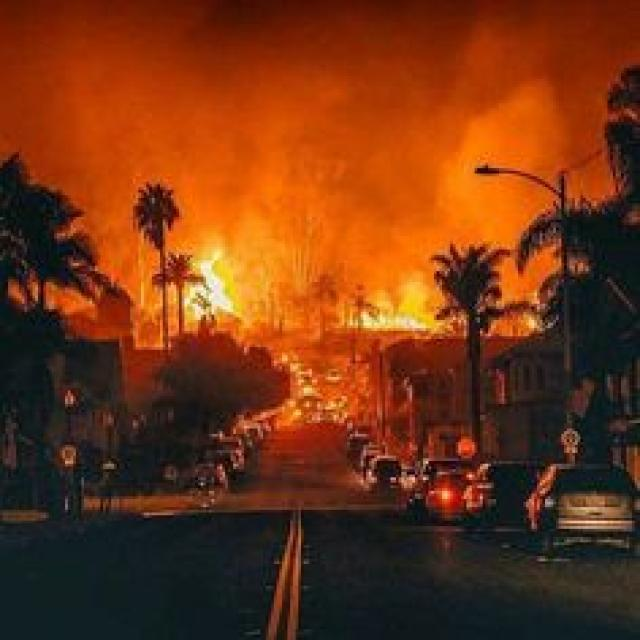Fire: (138, 234, 259, 346), (331, 270, 453, 362)
Smoke: (101, 20, 392, 231), (394, 36, 580, 263)
